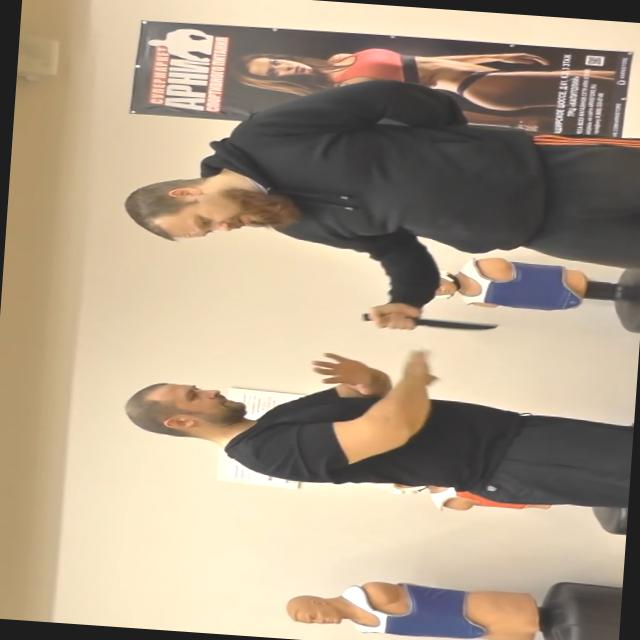knife: (357, 304, 504, 338)
